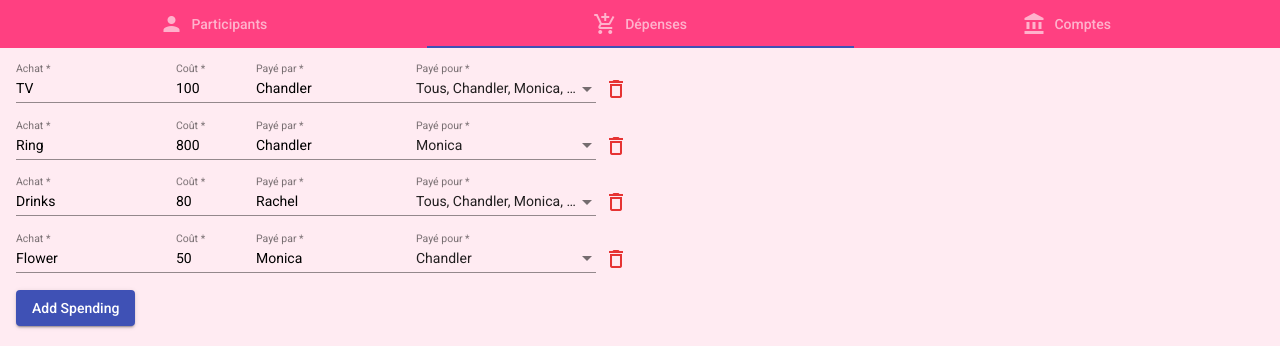
Test: When setting the spendings › should delete a spending
Click the 4th button with test id "delete-spending-button" at (616, 258), box x1=596 y1=238 x2=636 y2=278
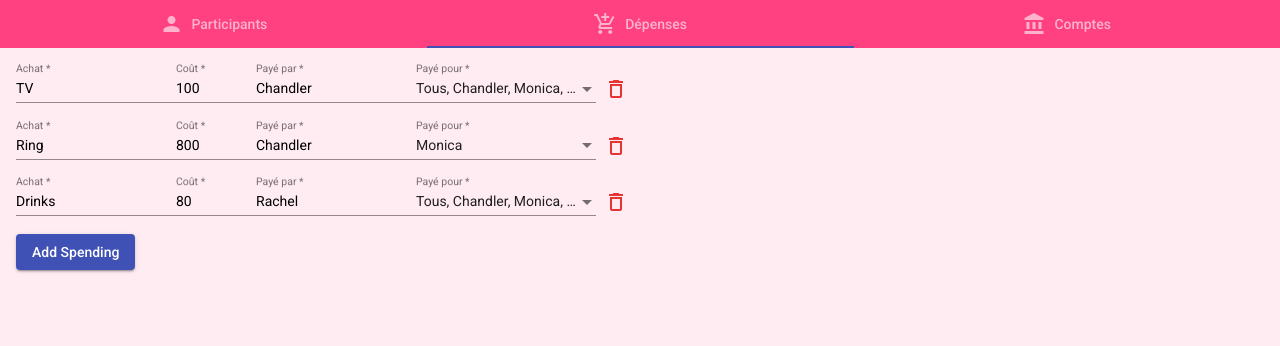
expect the number of elements with test id "spending-wrapper" is 3: met, box x1=16 y1=62 x2=636 y2=108; x1=16 y1=119 x2=636 y2=165; x1=16 y1=175 x2=636 y2=221
